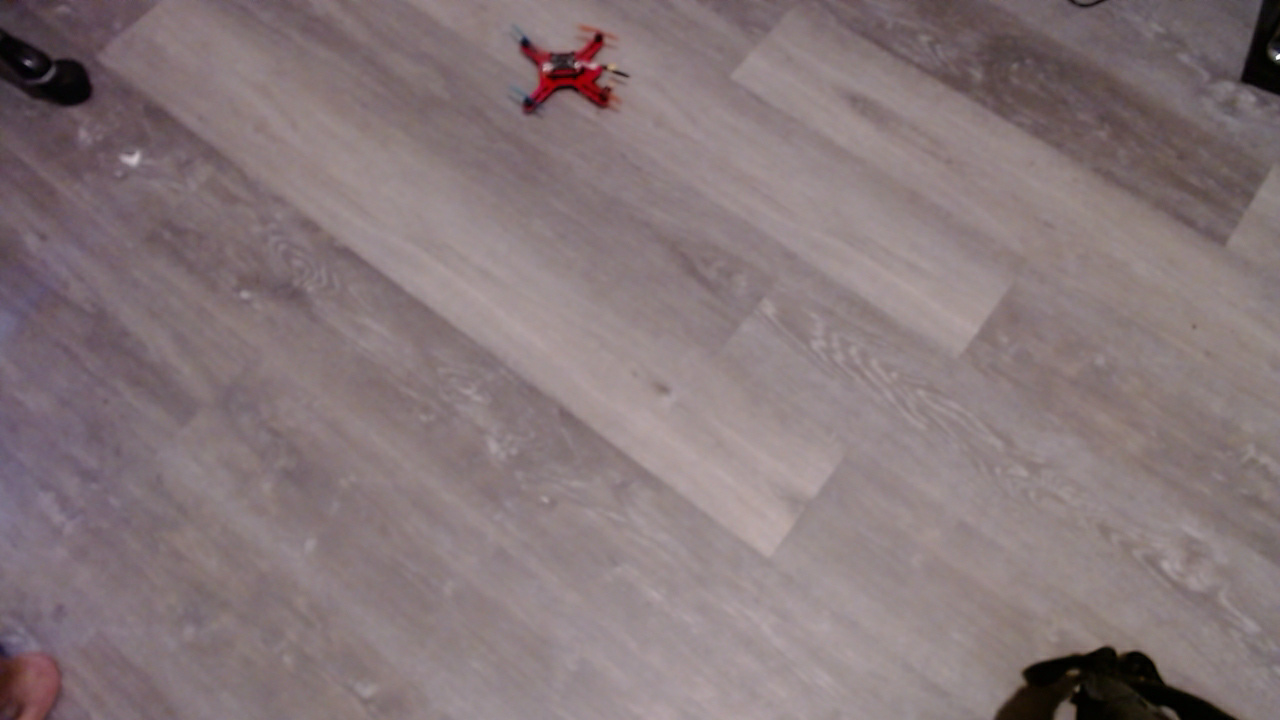crazyflie: (507, 15, 641, 126)
